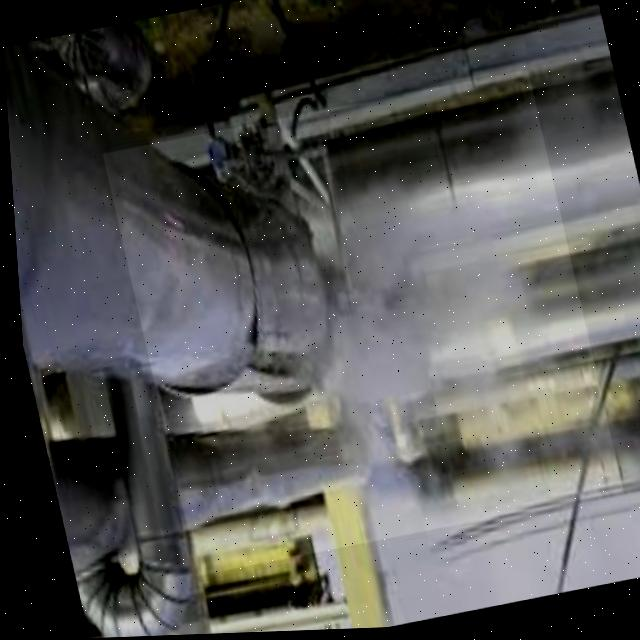corrosion: (103, 70, 624, 576)
